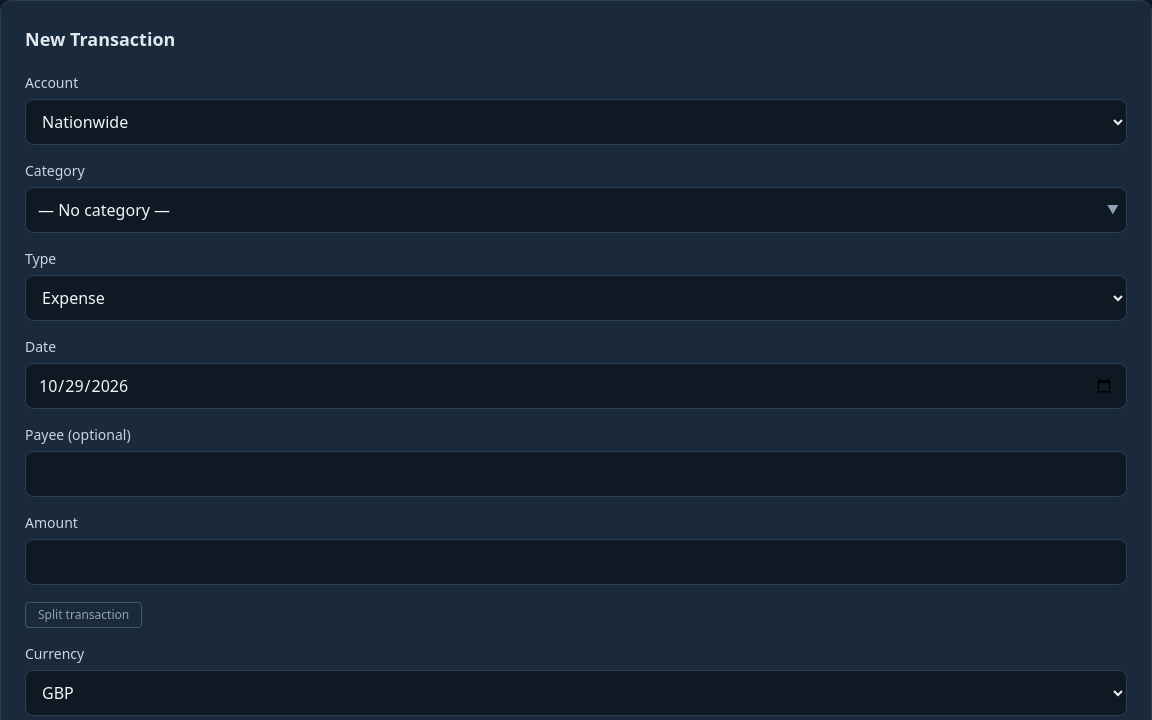
Test: AddTransactionForm › populates account and category dropdowns from the API
# Category uses combobox — open it and check the option is available
Click the button named "open category options": (1117, 210) [1107,187,1127,233]
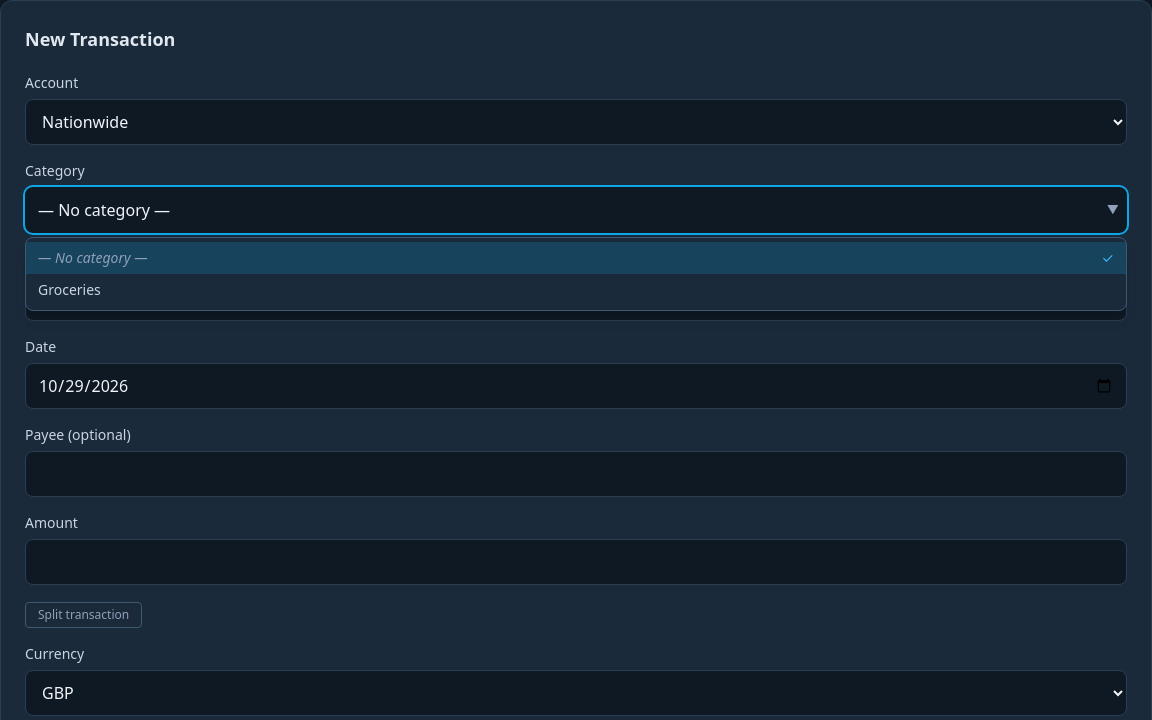
Expected: the option "Groceries" is shown, [38,280,101,299]
